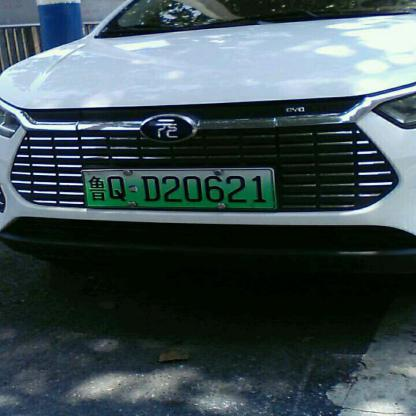lp: (85, 170, 276, 208)
